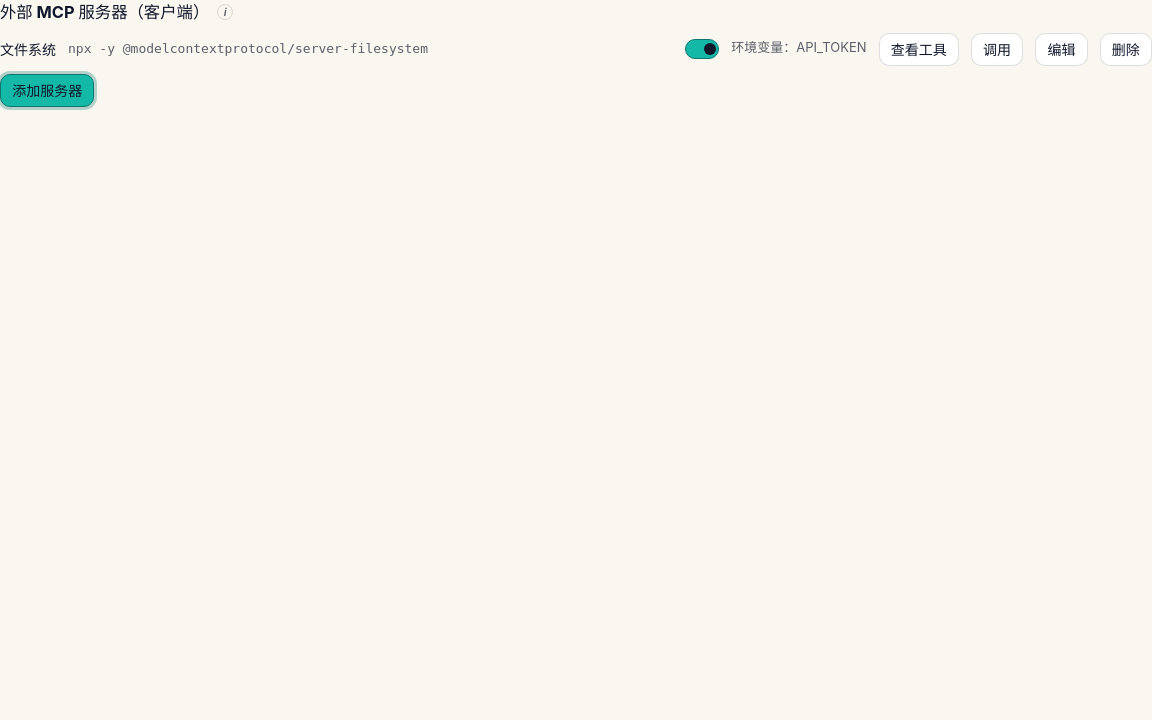
Test: McpClientSettings › 删除走确认框 → mcp_server_remove
This screenshot has width=1152, height=720.
Later steps or results of the test are not shown.
Click the button with test id "mcp-client-delete-srv-1" at (1126, 49), box [1100,33,1151,66]
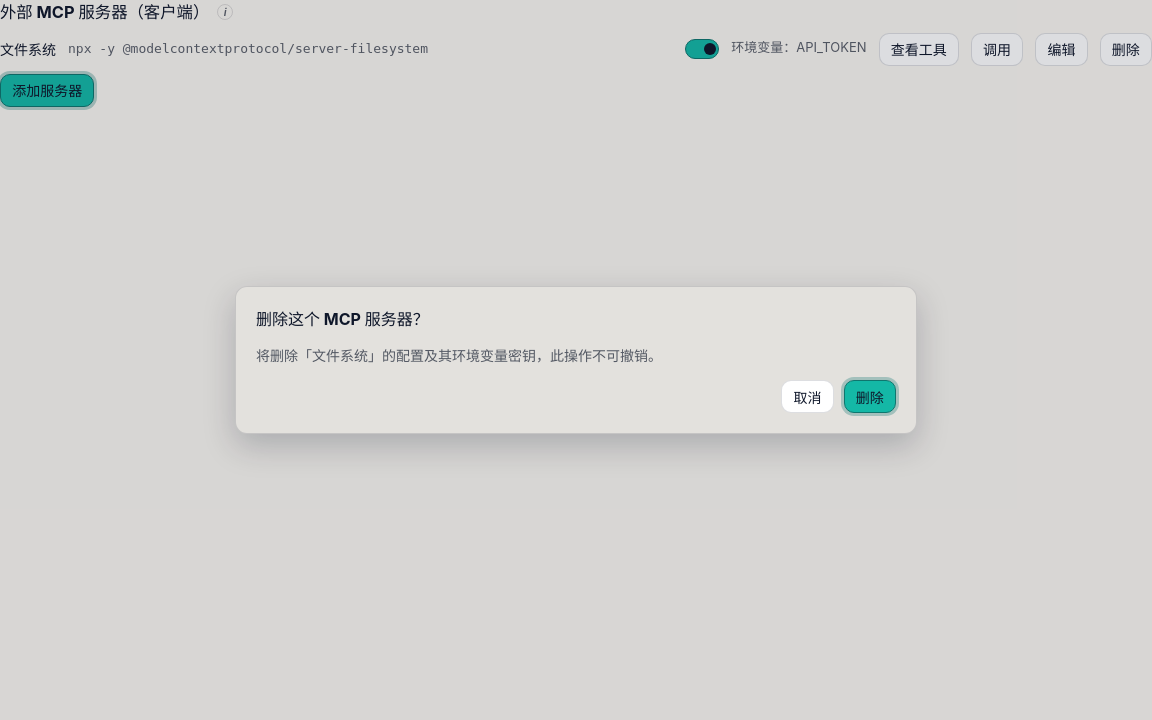
Result: the element with test id "mcp-client-delete-dialog" is shown at [235,286,917,434]
